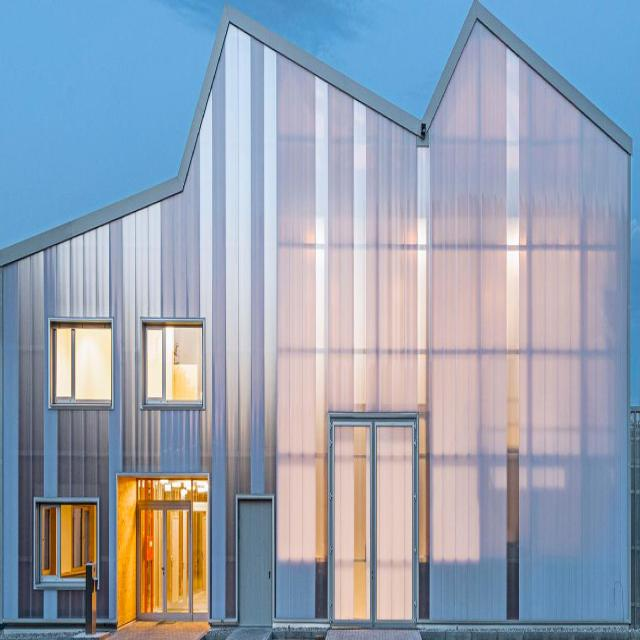door: (328, 409, 419, 630), (134, 499, 194, 623), (236, 497, 274, 632)
window: (52, 326, 113, 406), (147, 326, 205, 408), (38, 501, 96, 576)
